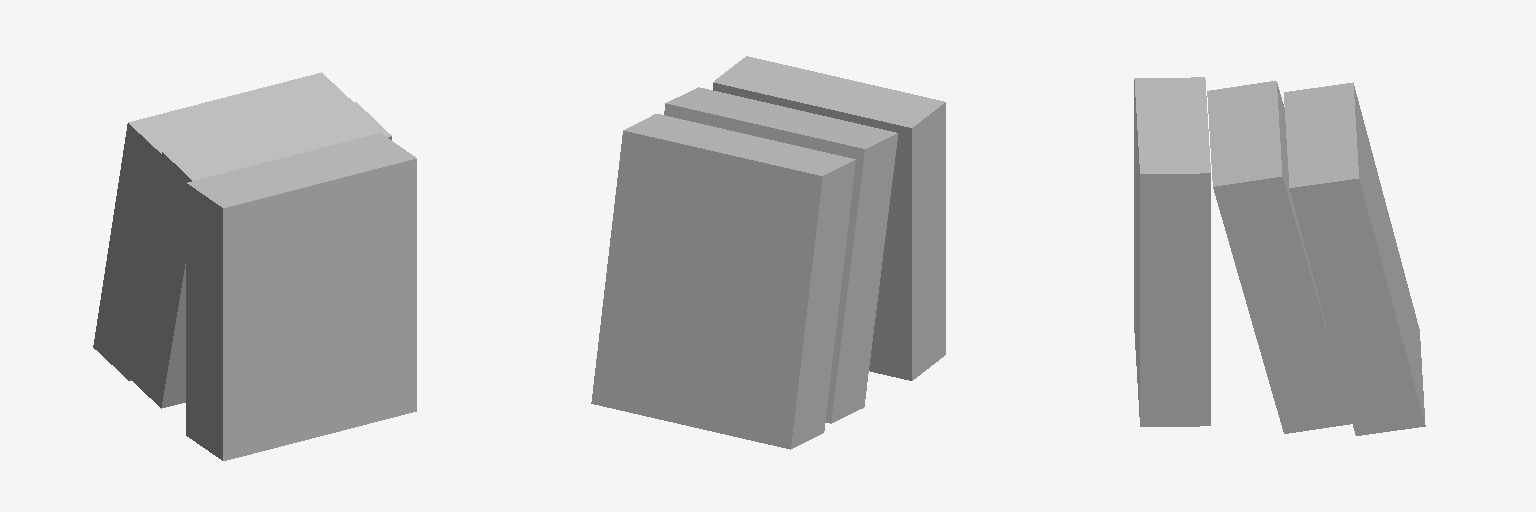
Rendered from book_pile2.obj.
The picture shows the model from 3 angles: view 1: azimuth 30°, elevation 25°; view 2: azimuth 150°, elevation 25°; view 3: azimuth 270°, elevation 25°; orthographic projection.
Parts seen in each view (by area): view 1: group2 books:Santi_Unger_Studio:Bookshelf4 books:Santi_Unger_Stu, books:Santi_Unger_Studio:polySurface8 books:Santi_Unger_Studio:B, books:Santi_Unger_Studio:Book15 group2 books:Santi_Unger_Studio:; view 2: books:Santi_Unger_Studio:polySurface8 books:Santi_Unger_Studio:B, group2 books:Santi_Unger_Studio:Bookshelf4 books:Santi_Unger_Stu, books:Santi_Unger_Studio:Book15 group2 books:Santi_Unger_Studio:; view 3: group2 books:Santi_Unger_Studio:Bookshelf4 books:Santi_Unger_Stu, books:Santi_Unger_Studio:Book15 group2 books:Santi_Unger_Studio:, books:Santi_Unger_Studio:polySurface8 books:Santi_Unger_Studio:B.
Part boxes in pixels (x1,y1,x2,y2): group2 books:Santi_Unger_Studio:Bookshelf4 books:Santi_Unger_Stu: (125, 102, 416, 460); books:Santi_Unger_Studio:polySurface8 books:Santi_Unger_Studio:B: (93, 72, 324, 380); books:Santi_Unger_Studio:Book15 group2 books:Santi_Unger_Studio:: (160, 76, 352, 144); books:Santi_Unger_Studio:polySurface8 books:Santi_Unger_Studio:B: (591, 114, 855, 449); group2 books:Santi_Unger_Studio:Bookshelf4 books:Santi_Unger_Stu: (664, 56, 945, 423); books:Santi_Unger_Studio:Book15 group2 books:Santi_Unger_Studio:: (627, 115, 822, 167); group2 books:Santi_Unger_Studio:Bookshelf4 books:Santi_Unger_Stu: (1134, 77, 1351, 433); books:Santi_Unger_Studio:Book15 group2 books:Santi_Unger_Studio:: (1291, 98, 1418, 434); books:Santi_Unger_Studio:polySurface8 books:Santi_Unger_Studio:B: (1284, 82, 1425, 435).
Bounding box in the file's own units: 7.85 × 9.05 × 9.27.